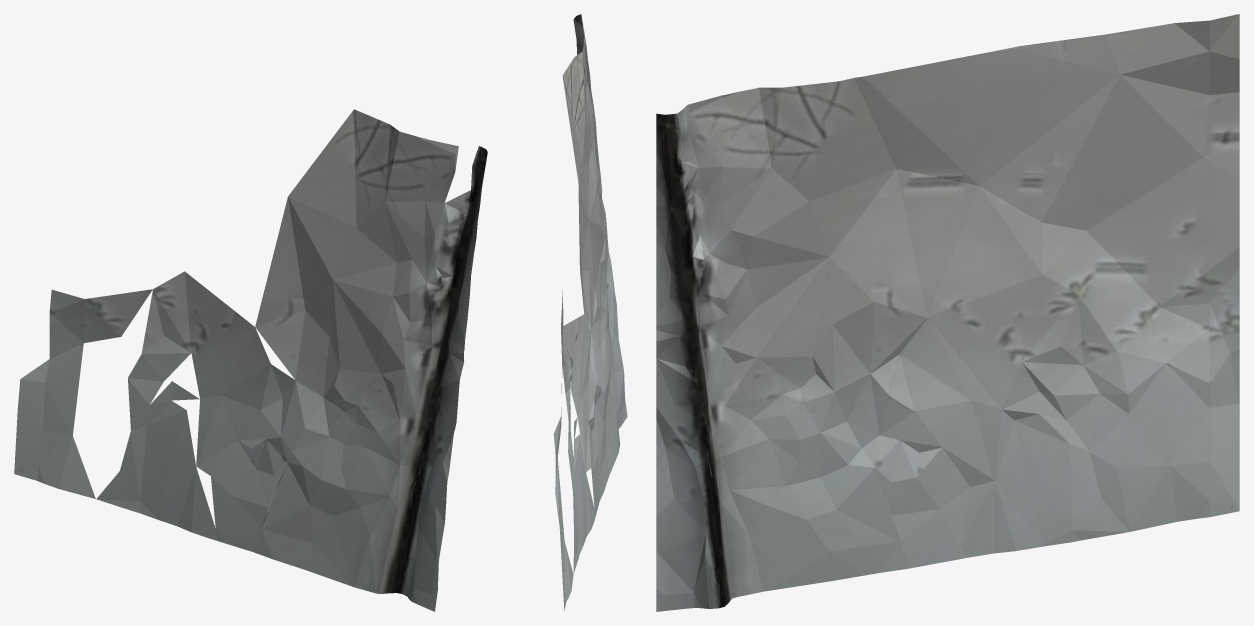
3 renders of one model, left to right at view 1: azimuth 30°, elevation 25°; view 2: azimuth 150°, elevation 25°; view 3: azimuth 270°, elevation 25°, orthographic. The views are drawn at different scales.
Bounding box in the file's own units: 1.8 × 3.35 × 3.35.
Materials: 3 (3 with a texture image).
